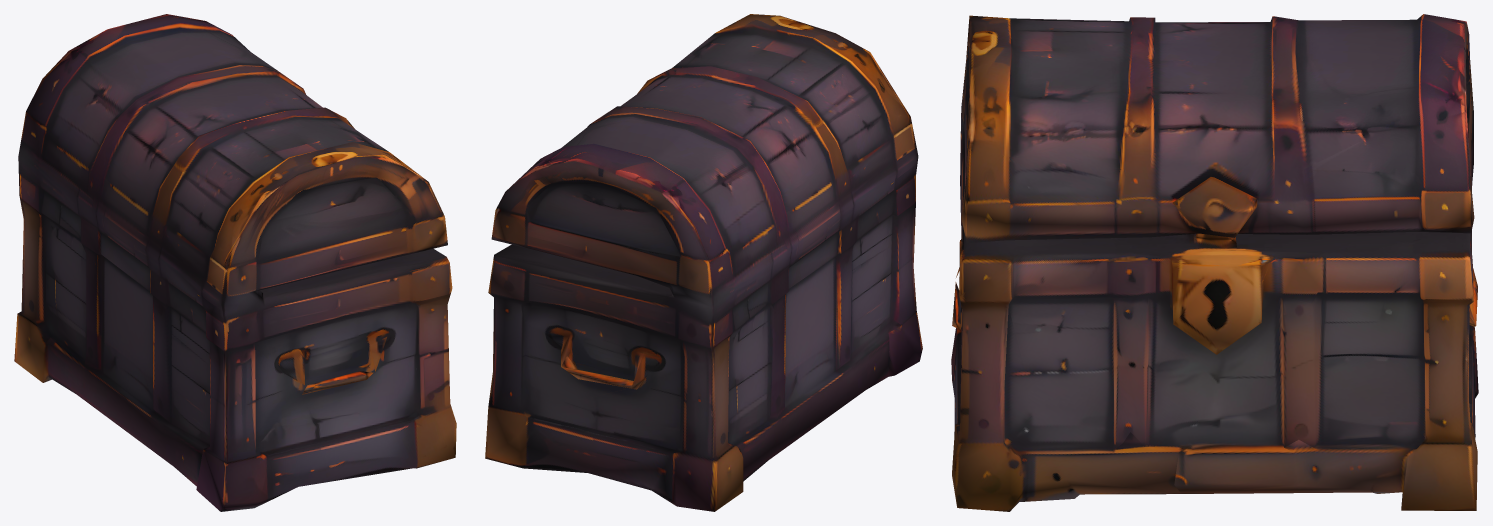
The model's file is treasure+chest+3d+model.obj.
The picture shows the model from 3 angles, left to right: view 1: azimuth 30°, elevation 25°; view 2: azimuth 150°, elevation 25°; view 3: azimuth 270°, elevation 25°; orthographic projection. The views are drawn at different scales.
Parts seen in each view (by area): view 1: tripo_node_fc69035a-801a-41e4-a336-787e40eecf47; view 2: tripo_node_fc69035a-801a-41e4-a336-787e40eecf47; view 3: tripo_node_fc69035a-801a-41e4-a336-787e40eecf47.
Part boxes in pixels (x1=…): tripo_node_fc69035a-801a-41e4-a336-787e40eecf47: x1=14, y1=14, x2=456, y2=511; tripo_node_fc69035a-801a-41e4-a336-787e40eecf47: x1=485, y1=14, x2=922, y2=511; tripo_node_fc69035a-801a-41e4-a336-787e40eecf47: x1=951, y1=14, x2=1478, y2=511.
Size of the model in its own units: 0.6584 by 0.8491 by 0.994.
1 material, 1 textured.
